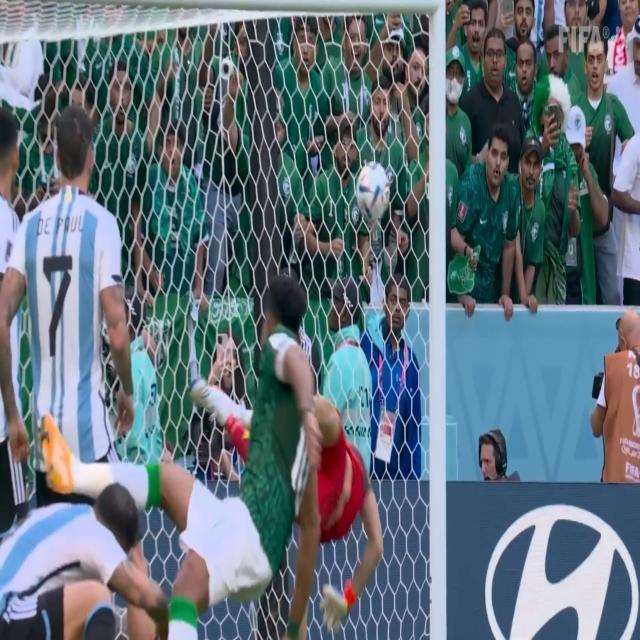football: (356, 157, 402, 238)
